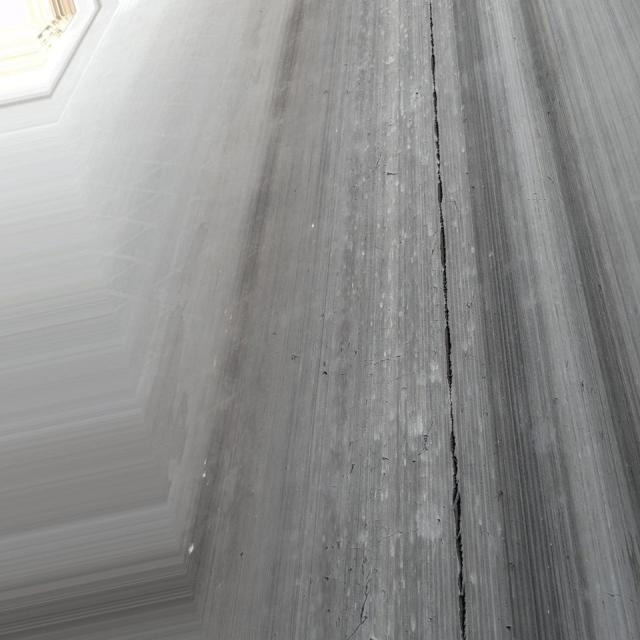Tear: (424, 0, 474, 640)
